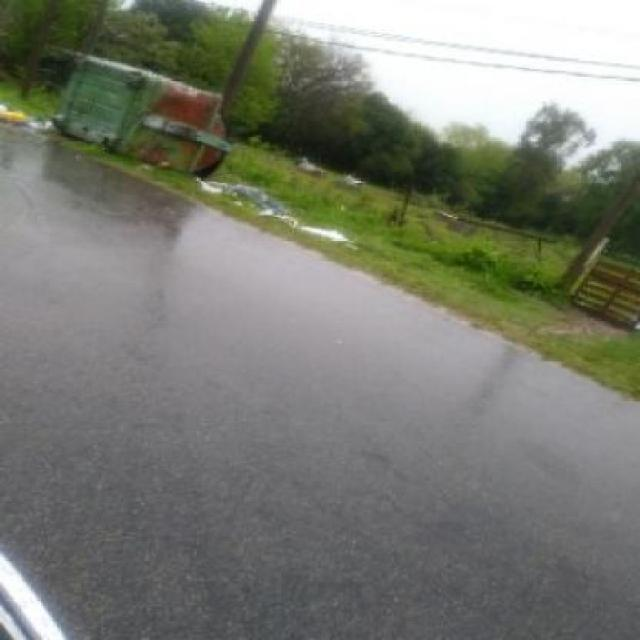garbage: (202, 180, 370, 255), (292, 149, 366, 182), (0, 105, 54, 128)
